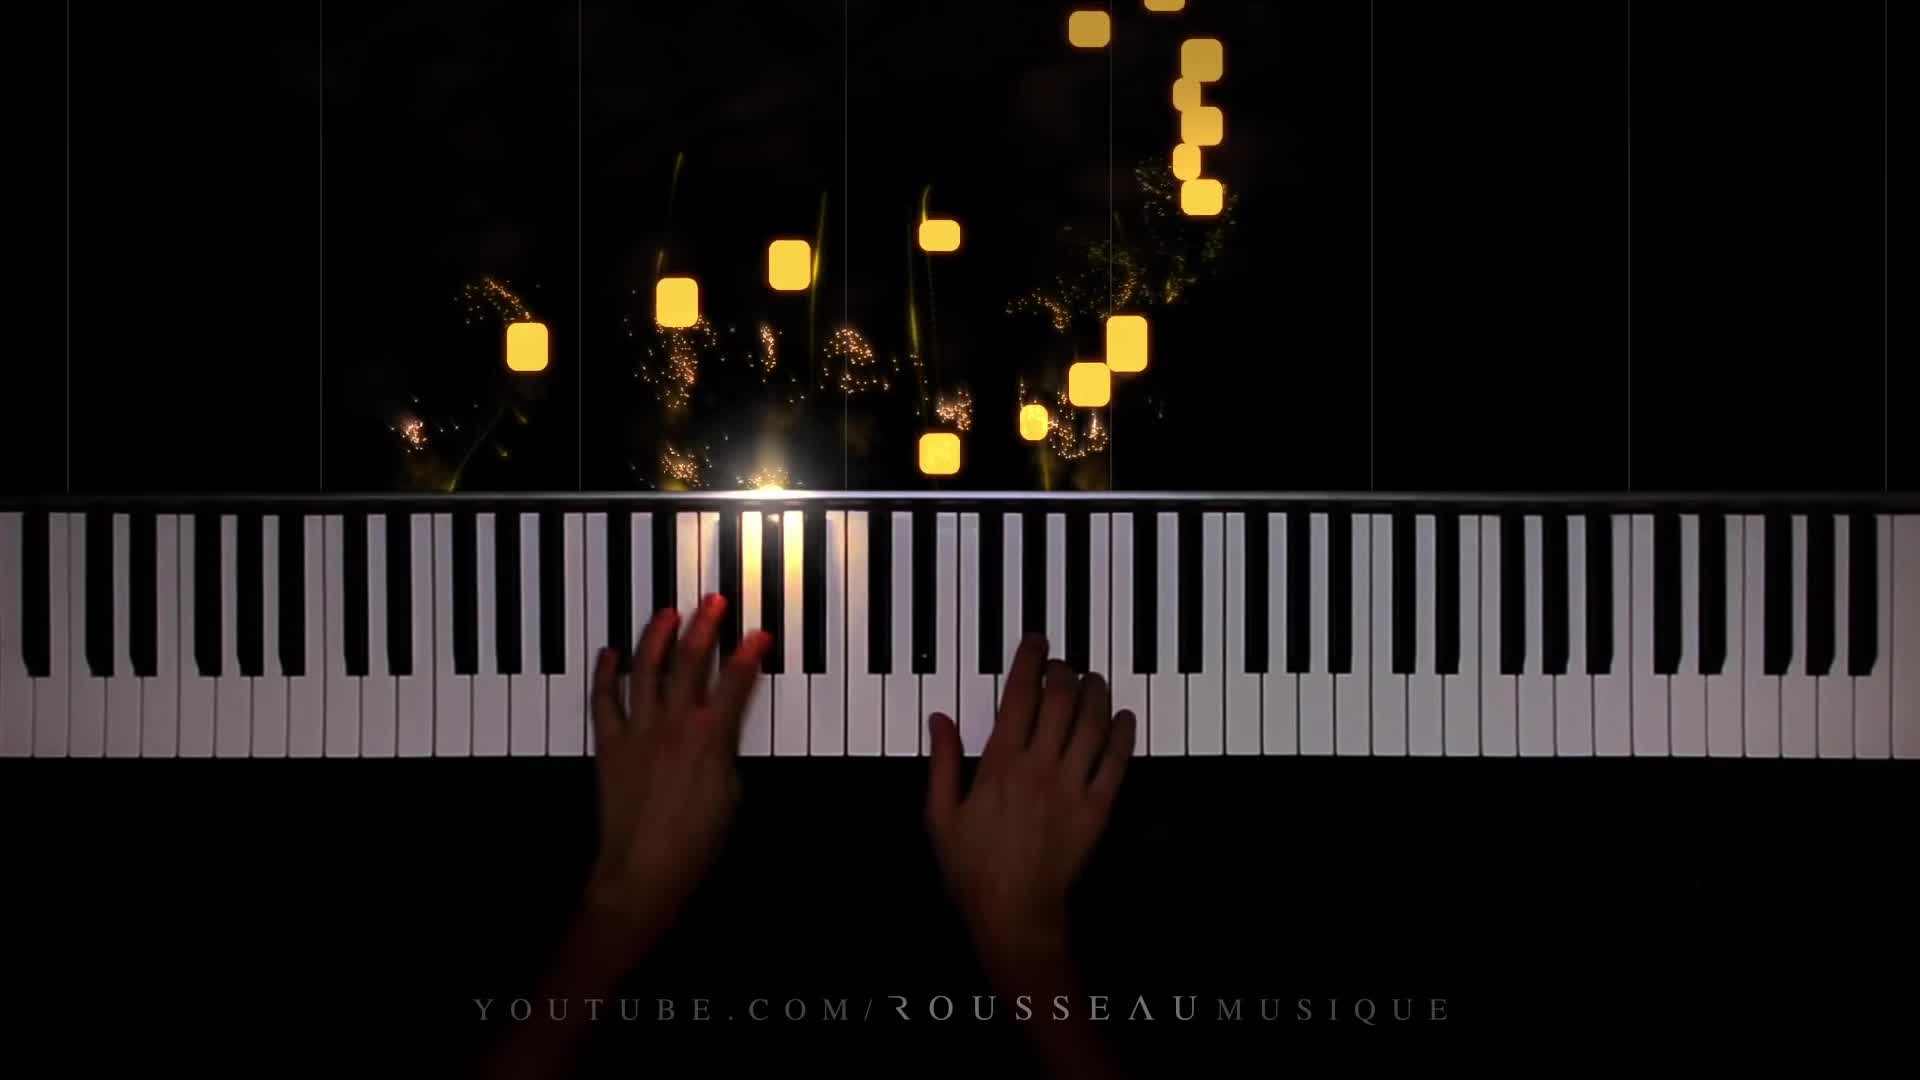left: (578, 585, 771, 849)
right: (915, 621, 1135, 899)
